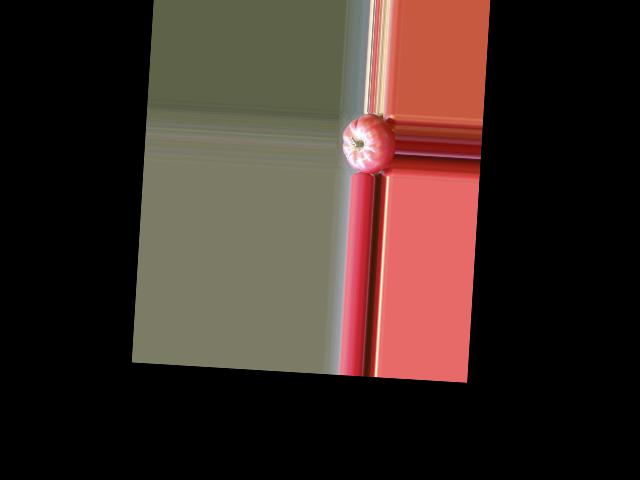tomato: (341, 111, 397, 174)
